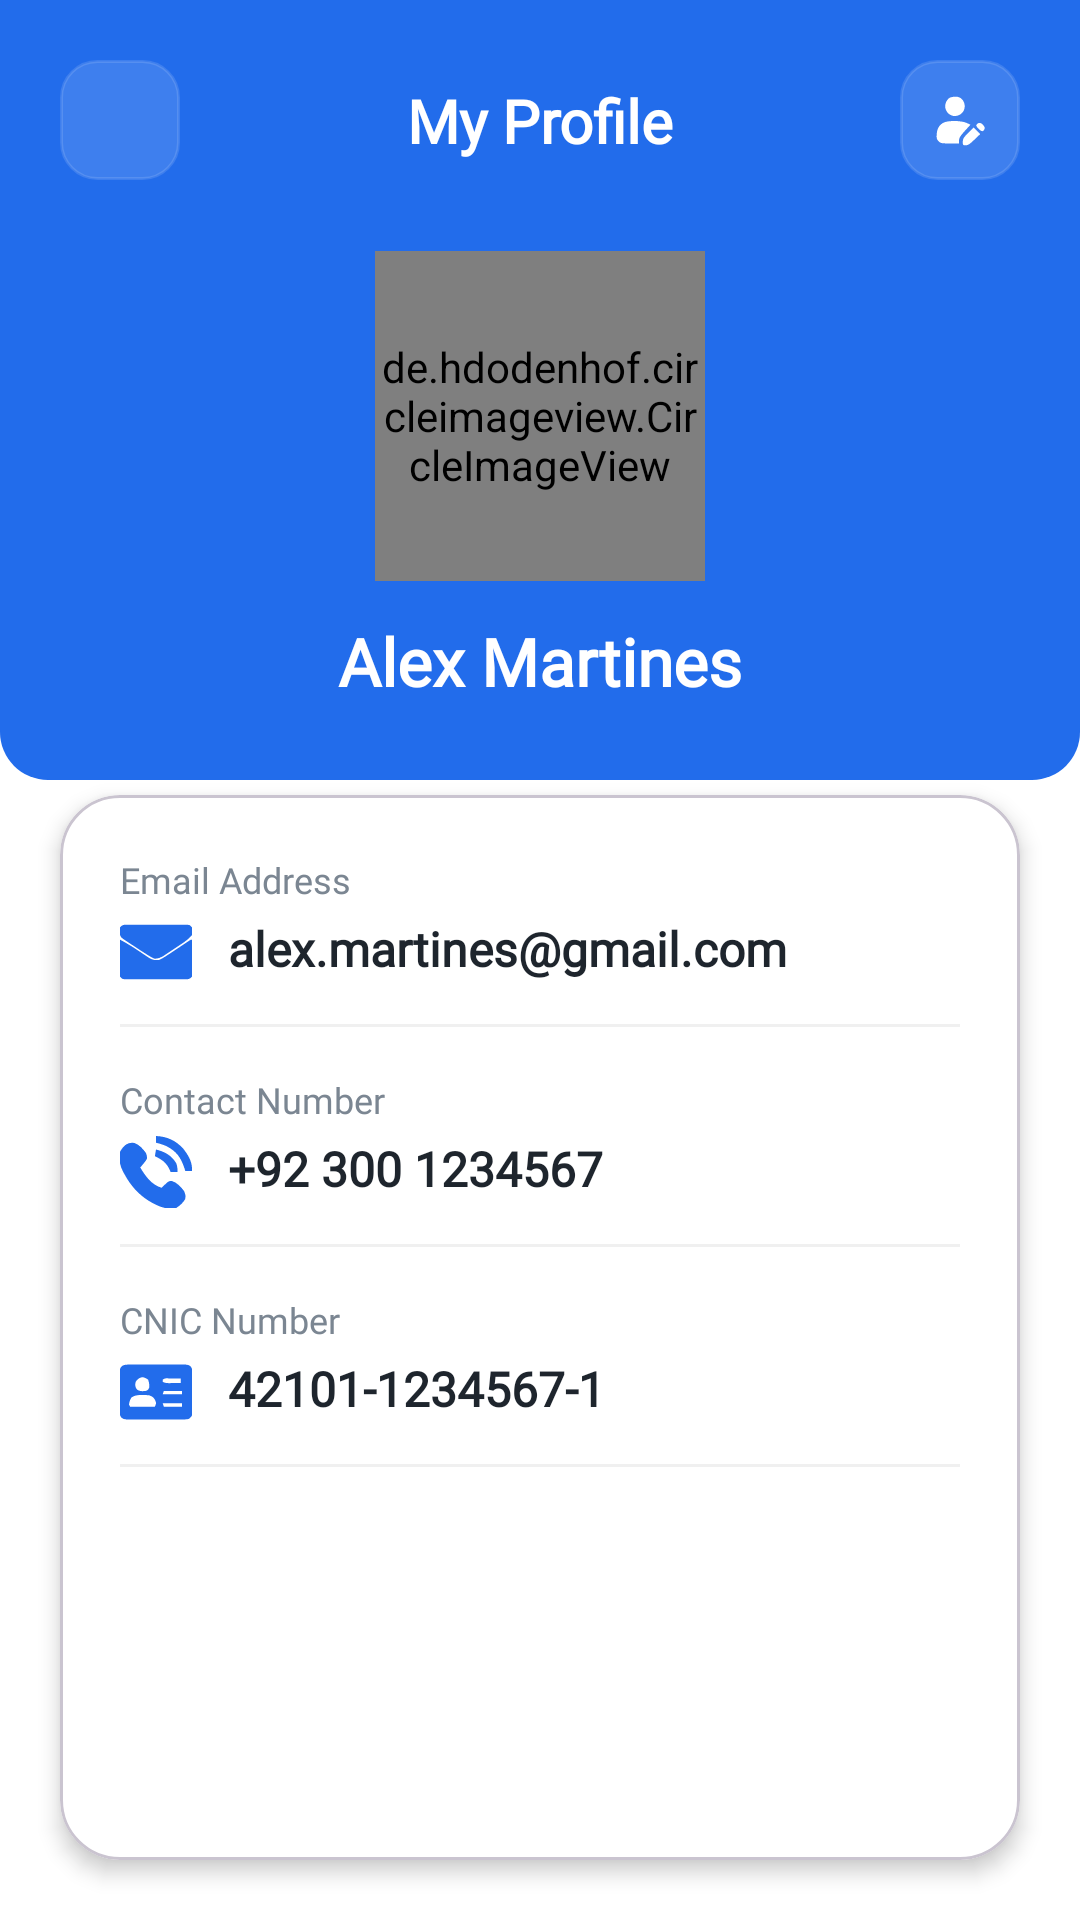

Screen size 1080px x 1920px. Icon name, then its box in pixels as bbox=(x1, y1, x2, y2):
edit: bbox=(900, 60, 1020, 180)
